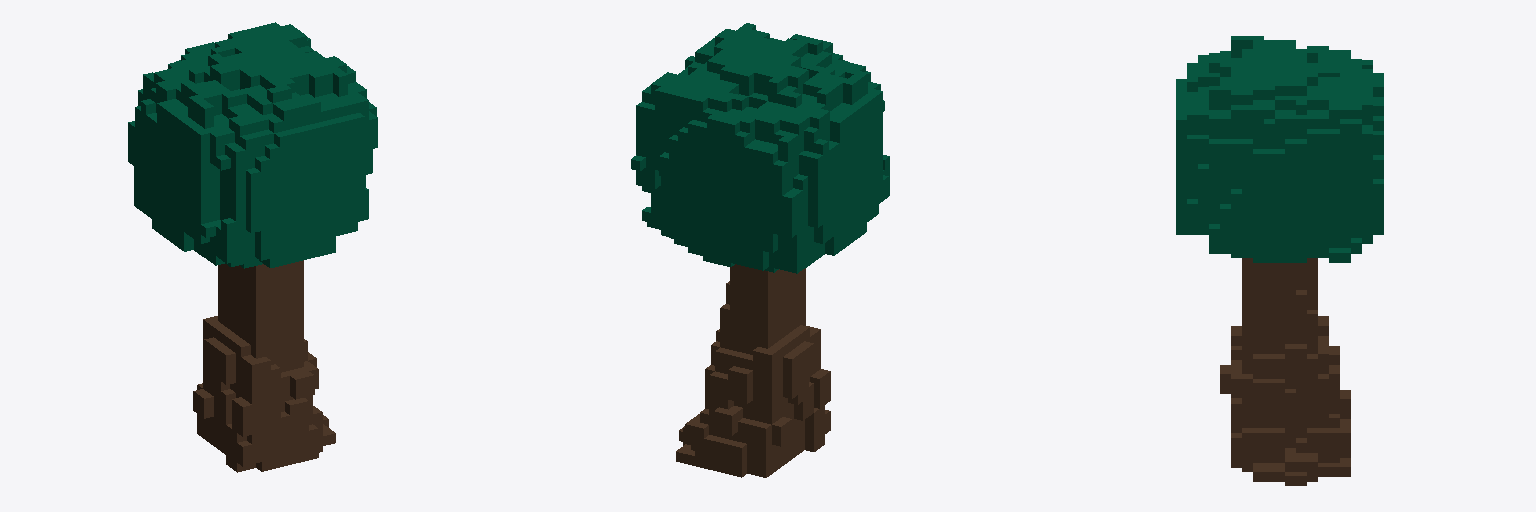
The picture shows the model from 3 angles: view 1: azimuth 30°, elevation 25°; view 2: azimuth 150°, elevation 25°; view 3: azimuth 270°, elevation 25°; orthographic projection.
Parts seen in each view (by area): view 1: Model; view 2: Model; view 3: Model.
Boxes of the visible parts, box(x1,y1,x2,y2) form: Model: box(128, 22, 377, 472); Model: box(631, 23, 889, 477); Model: box(1176, 36, 1383, 485).
Bounding box in the file's own units: 18 × 39 × 19.
Materials: 1 (1 with a texture image).